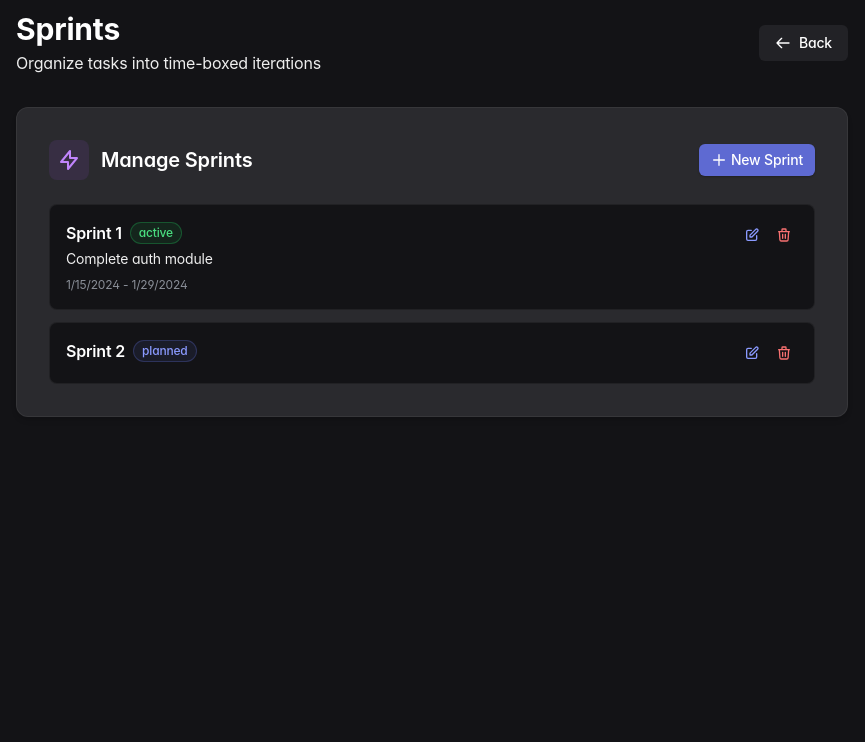
Test: Sprints › opens edit form with pre-filled data
Expected: the heading "Sprint 1" is shown, [66, 221, 122, 245]
Step 1. Click the button titled "Edit" in the row of "active" → (752, 235), box [738, 221, 766, 249]
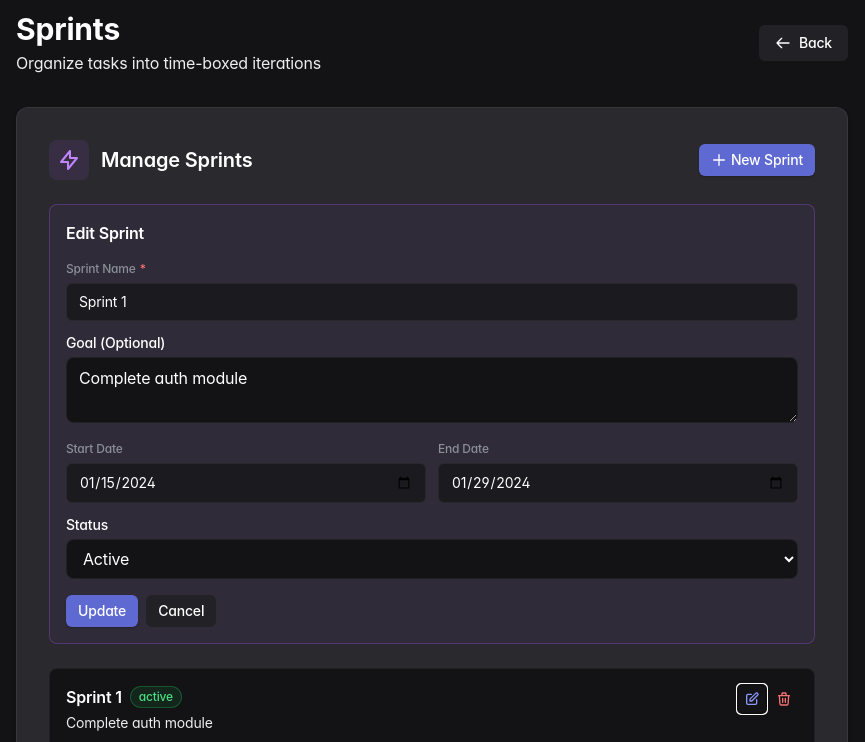
Now the heading "Edit Sprint" is shown, box [66, 223, 144, 243]
Now the field showing "Sprint 1" is shown, box [66, 283, 798, 321]
